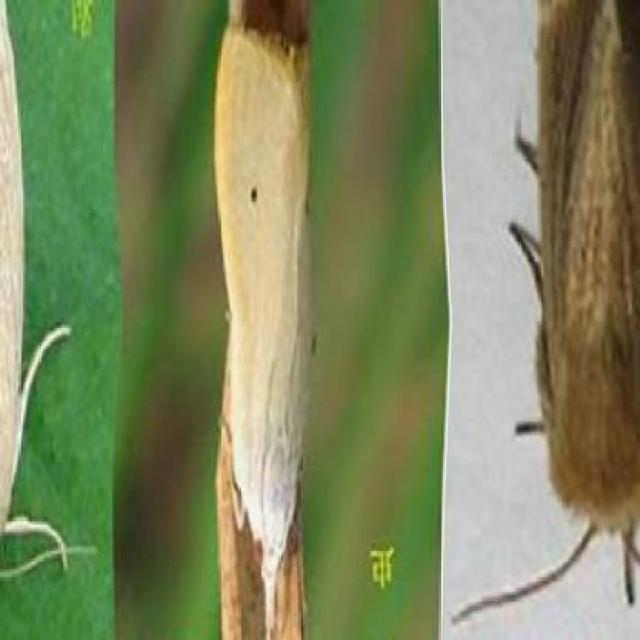stem-borer: (495, 0, 640, 614), (208, 15, 314, 640)
